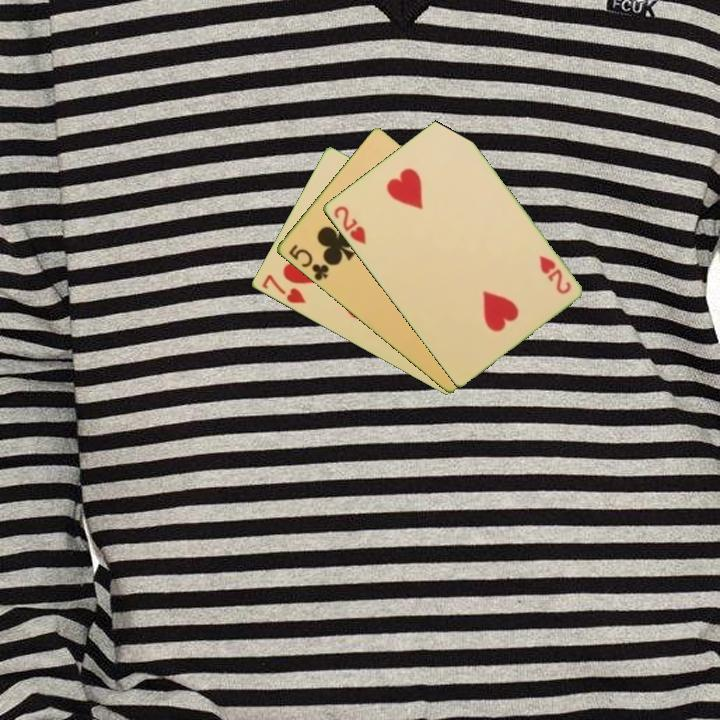2h: (330, 202, 369, 247), (535, 252, 574, 297)
5c: (285, 241, 331, 284)
7h: (258, 271, 309, 307)
